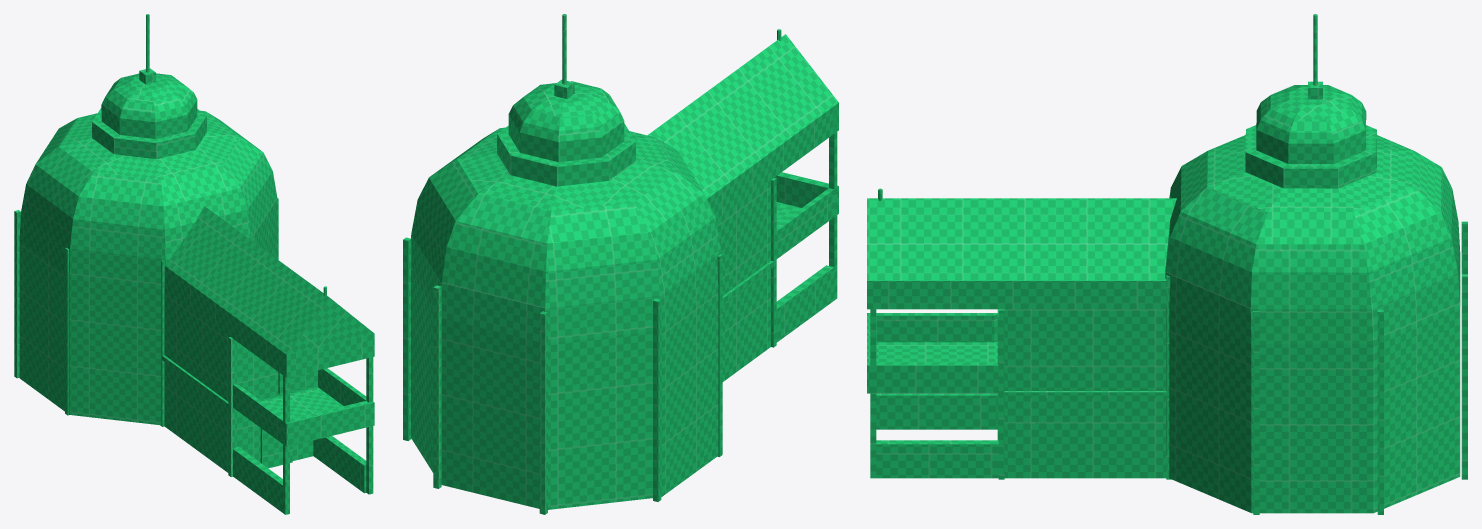
The model's file is SM_solarhouse_ver1.fbx.
3 views of the same model, side by side, from view 1: azimuth 30°, elevation 25°; view 2: azimuth 150°, elevation 25°; view 3: azimuth 270°, elevation 25° (orthographic). The views are drawn at different scales.
Parts seen in each view (by area): view 1: Cube.015; view 2: Cube.015; view 3: Cube.015.
Part boxes in pixels (left/top/right/bottom): Cube.015: left=14, top=14, right=374, bottom=514; Cube.015: left=403, top=14, right=838, bottom=514; Cube.015: left=867, top=14, right=1467, bottom=514.
Bounding box in the file's own units: 960 × 1551 × 1933.
